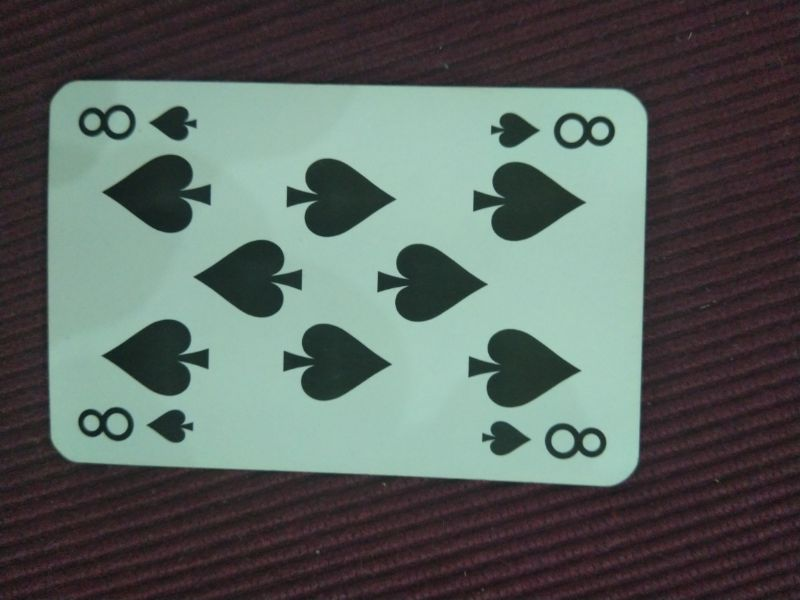8s: (477, 413, 609, 467), (75, 95, 210, 146), (486, 104, 617, 153), (70, 400, 199, 447)
